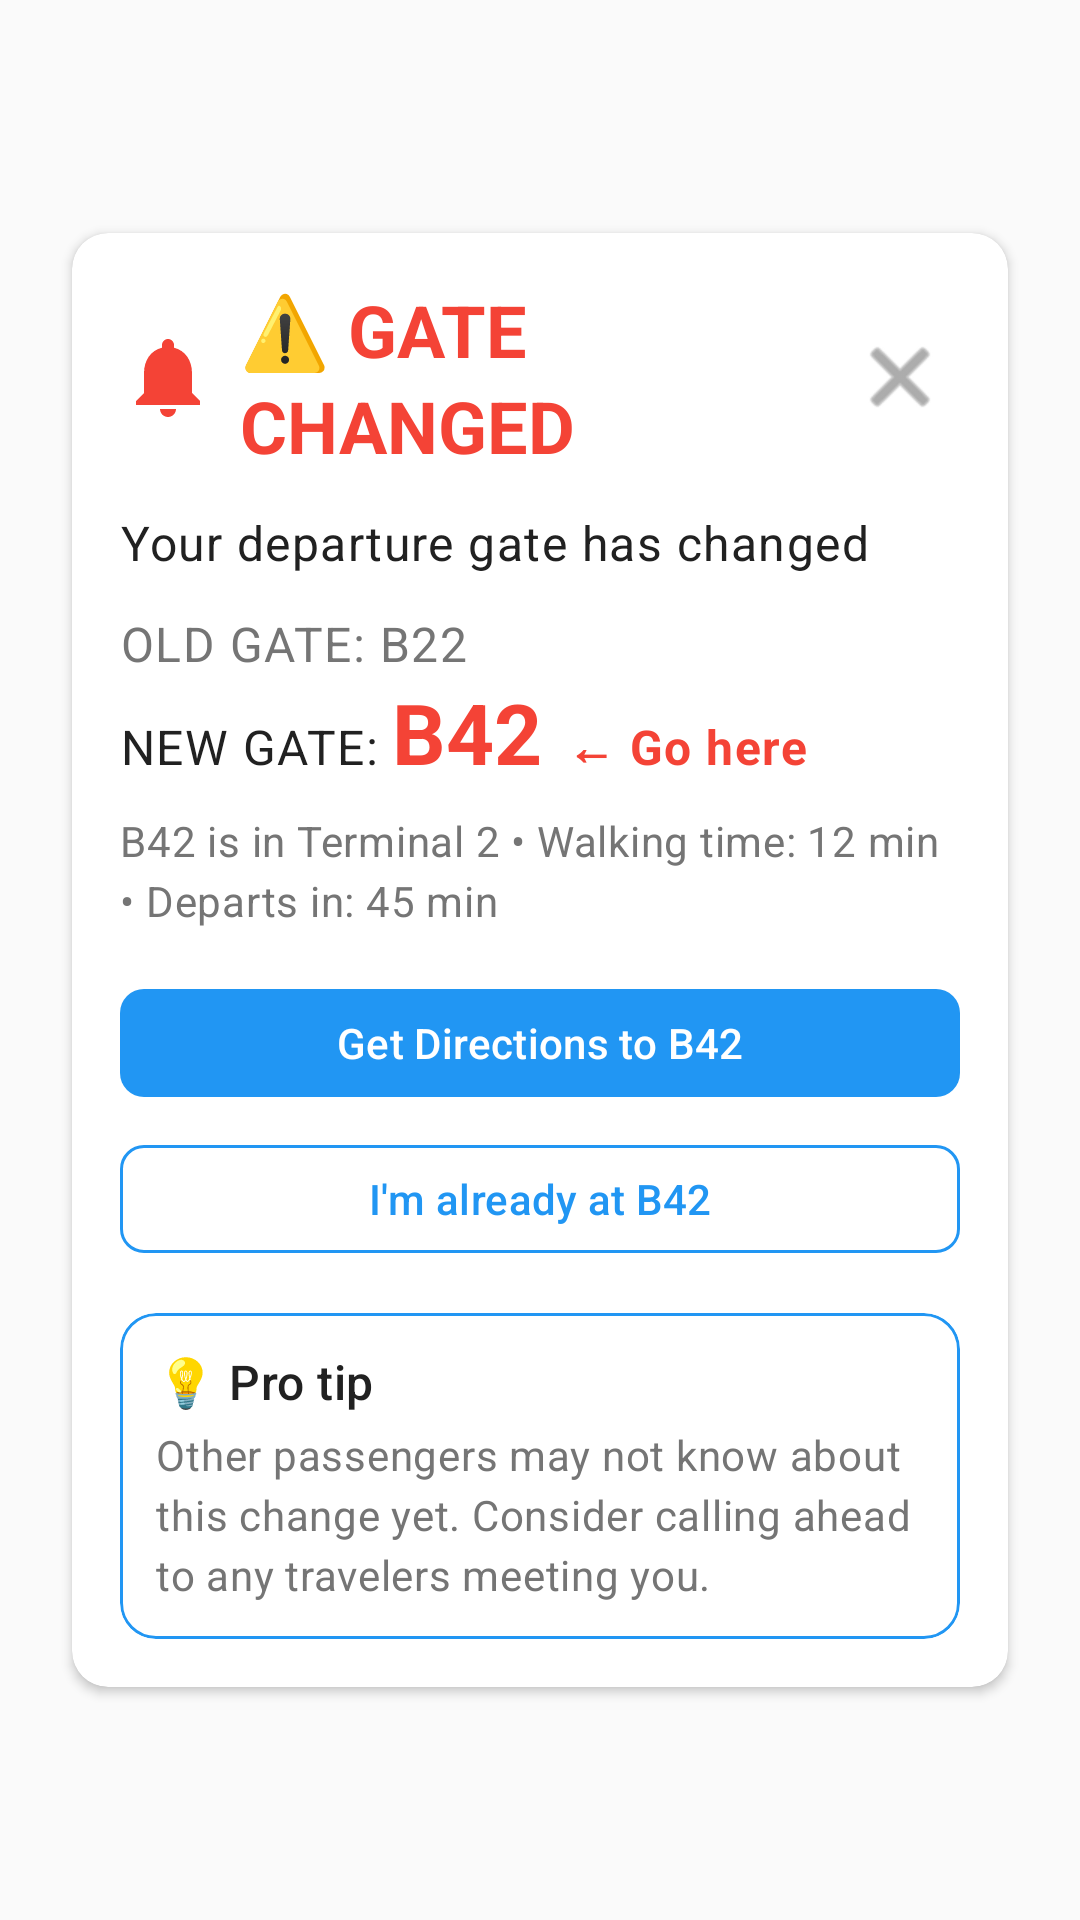

Icons on this 1080w x 1920h Android screen, each with the point to tap as (x=x, y=y):
Alert: (x=168, y=378)
Close: (x=900, y=377)
